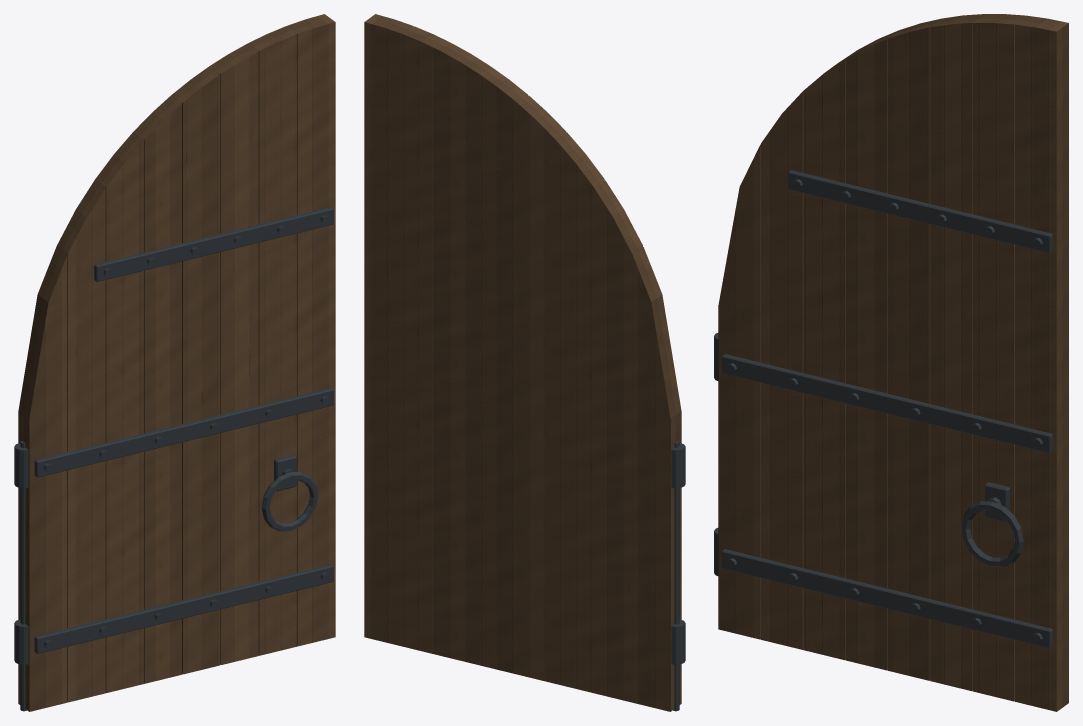
File: Furn_Gate_Door.fbx
The picture shows the model from 3 angles, left to right: view 1: azimuth 30°, elevation 25°; view 2: azimuth 150°, elevation 25°; view 3: azimuth 330°, elevation 25°; orthographic projection. The views are drawn at different scales.
Parts seen in each view (by area): view 1: Furn_Gate_Door_Mesh; view 2: Furn_Gate_Door_Mesh; view 3: Furn_Gate_Door_Mesh.
Part boxes in pixels (x1,y1,x2,y2): Furn_Gate_Door_Mesh: [14, 14, 335, 711]; Furn_Gate_Door_Mesh: [364, 14, 685, 711]; Furn_Gate_Door_Mesh: [714, 14, 1068, 711].
Bounding box in the file's own units: 3.63 × 6.82 × 0.384.
